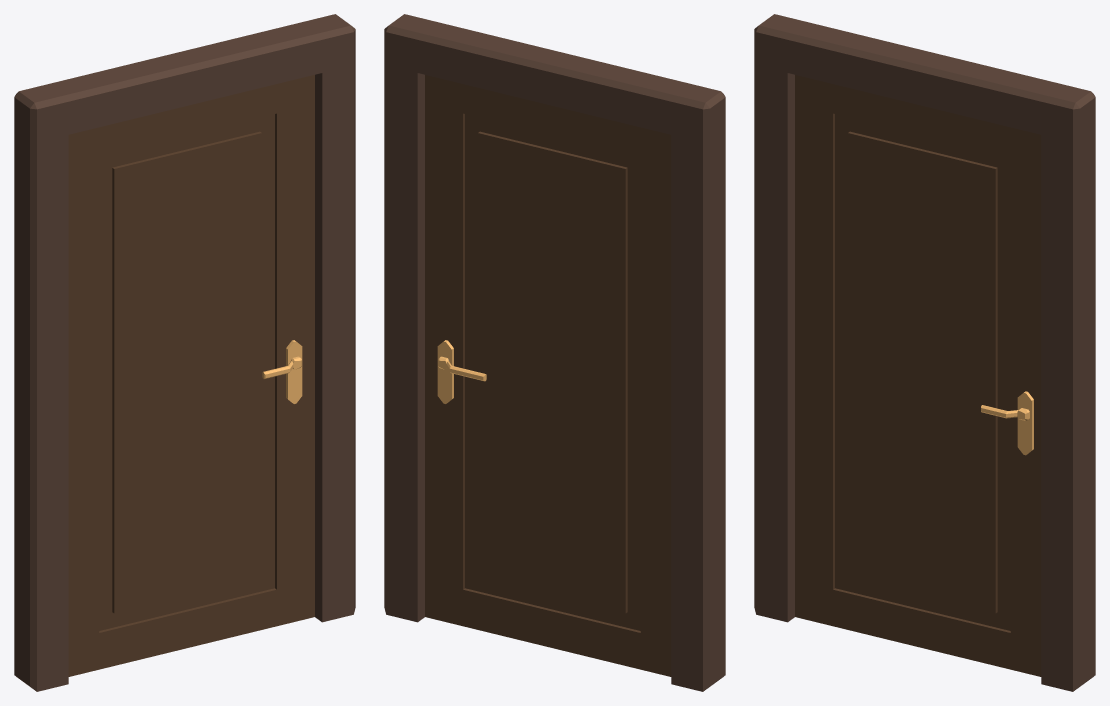
File: dooor.fbx
3 renders of one model, left to right at view 1: azimuth 30°, elevation 25°; view 2: azimuth 150°, elevation 25°; view 3: azimuth 330°, elevation 25°, orthographic.
Visible parts, largest first — view 1: Cube.003, Cube.002, Cube.006; view 2: Cube.003, Cube.002, Cube.006; view 3: Cube.003, Cube.002, Cube.006.
Part boxes in pixels (box(x1,y1,x2,y2)): Cube.003: box(68, 75, 314, 676); Cube.002: box(14, 14, 355, 691); Cube.006: box(286, 340, 302, 403); Cube.003: box(425, 75, 671, 676); Cube.002: box(384, 14, 725, 691); Cube.006: box(437, 340, 453, 403); Cube.003: box(795, 75, 1041, 676); Cube.002: box(754, 14, 1095, 691); Cube.006: box(1017, 391, 1033, 455).
Size of the model in its own units: 360 by 620 by 46.52.
